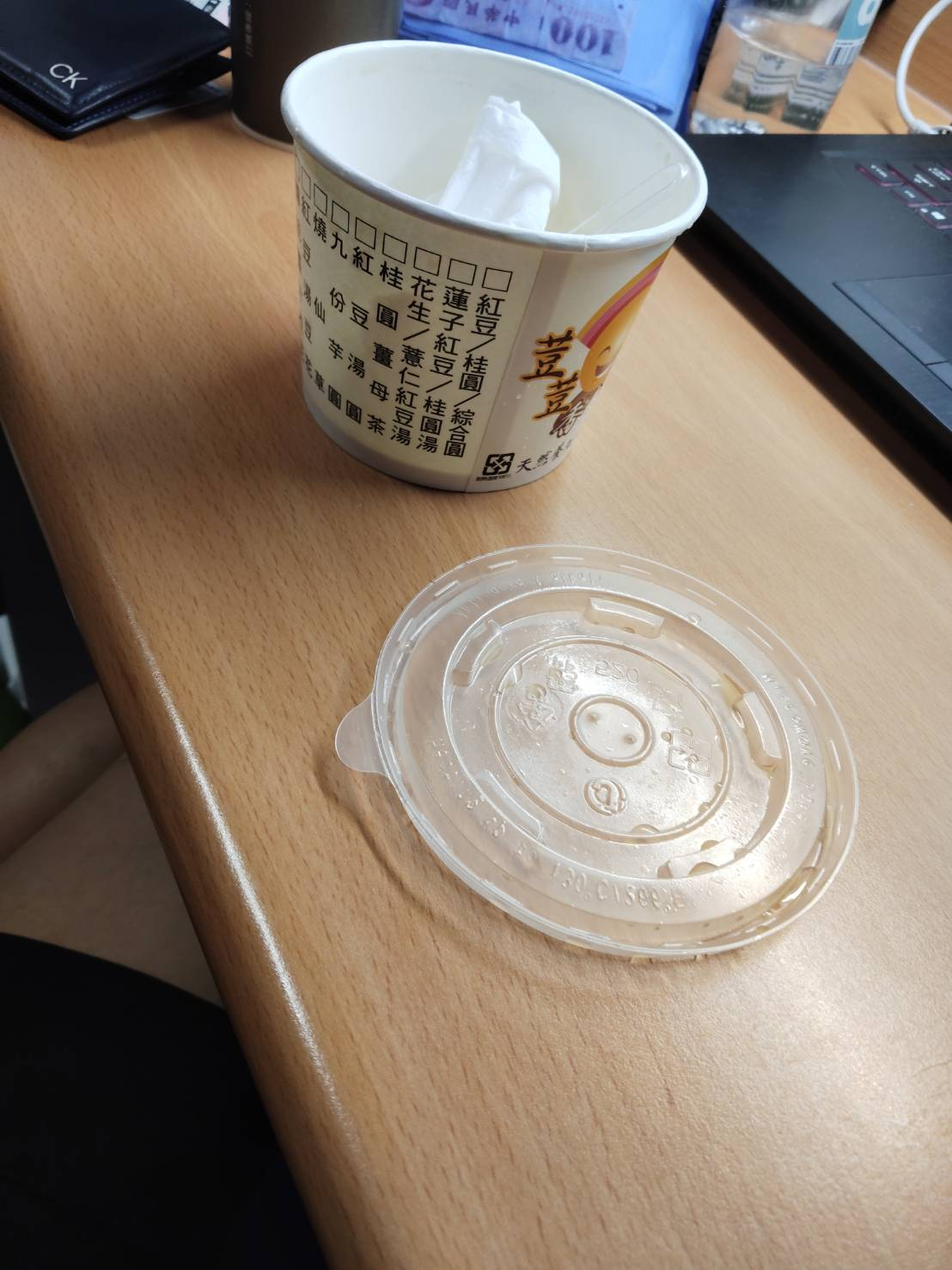paper: (215, 26, 745, 510)
plastic: (292, 519, 882, 1006)
